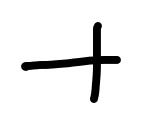plus: (20, 21, 120, 102)
